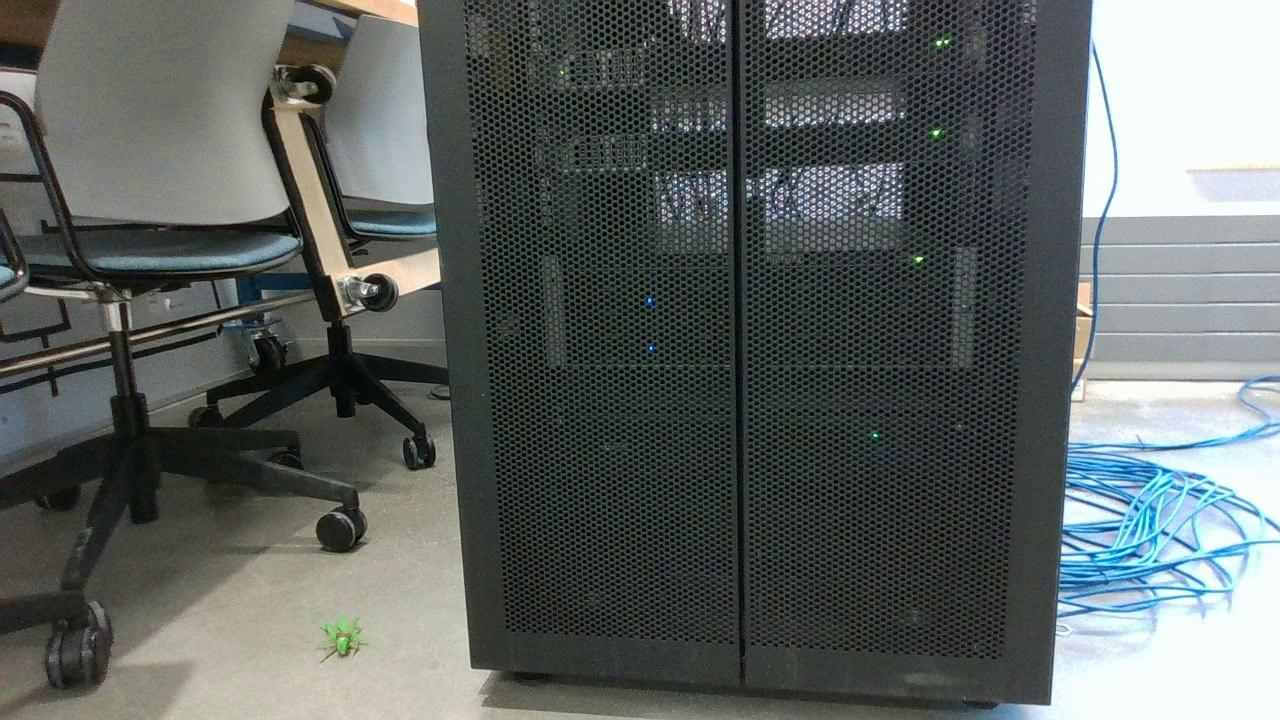grasshopper: (322, 618, 368, 660)
